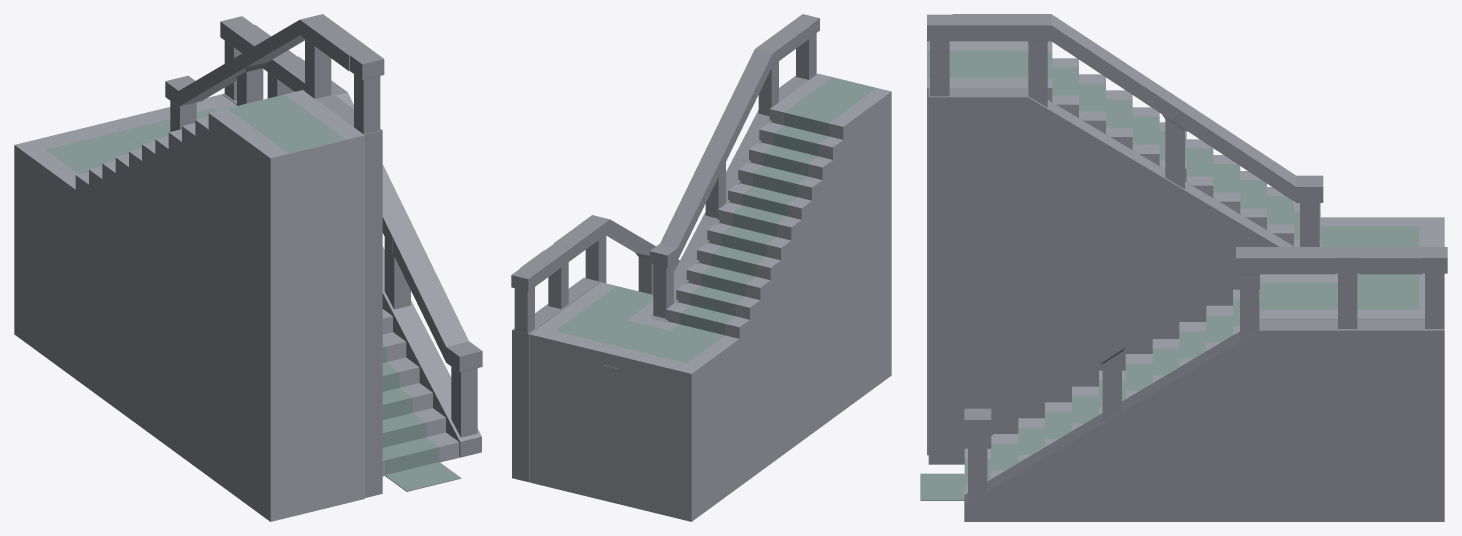
The model's file is stairsFlipped.fbx.
3 renders of one model, left to right at view 1: azimuth 30°, elevation 25°; view 2: azimuth 150°, elevation 25°; view 3: azimuth 270°, elevation 25°, orthographic. The views are drawn at different scales.
Parts seen in each view (by area): view 1: stairs02; view 2: stairs02; view 3: stairs02.
Part boxes in pixels (<box>): stairs02: <box>14,14,482,521</box>; stairs02: <box>511,14,891,521</box>; stairs02: <box>920,14,1447,521</box>.
Size of the model in its own units: 849 by 1533 by 1666.
